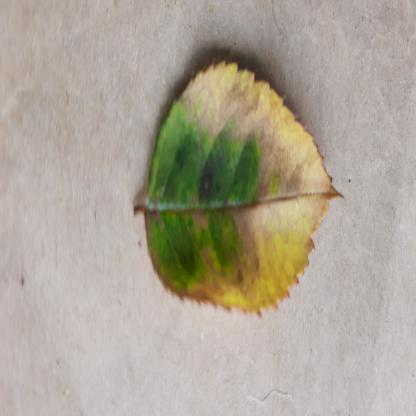black-spot: (142, 56, 341, 308)
